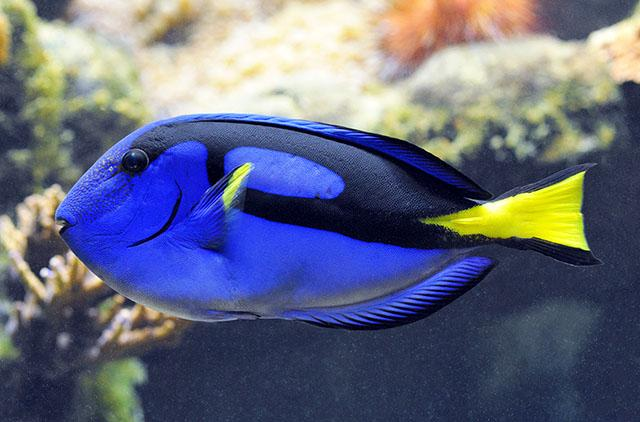Mulut: (23, 190, 103, 282)
Sirip Anal: (286, 242, 508, 344)
Sirip Dada: (151, 148, 263, 274)
Sirip Ekor: (482, 150, 614, 284)
Sirip Perut: (174, 294, 274, 342)
Sirip Punggung: (184, 102, 504, 212)
